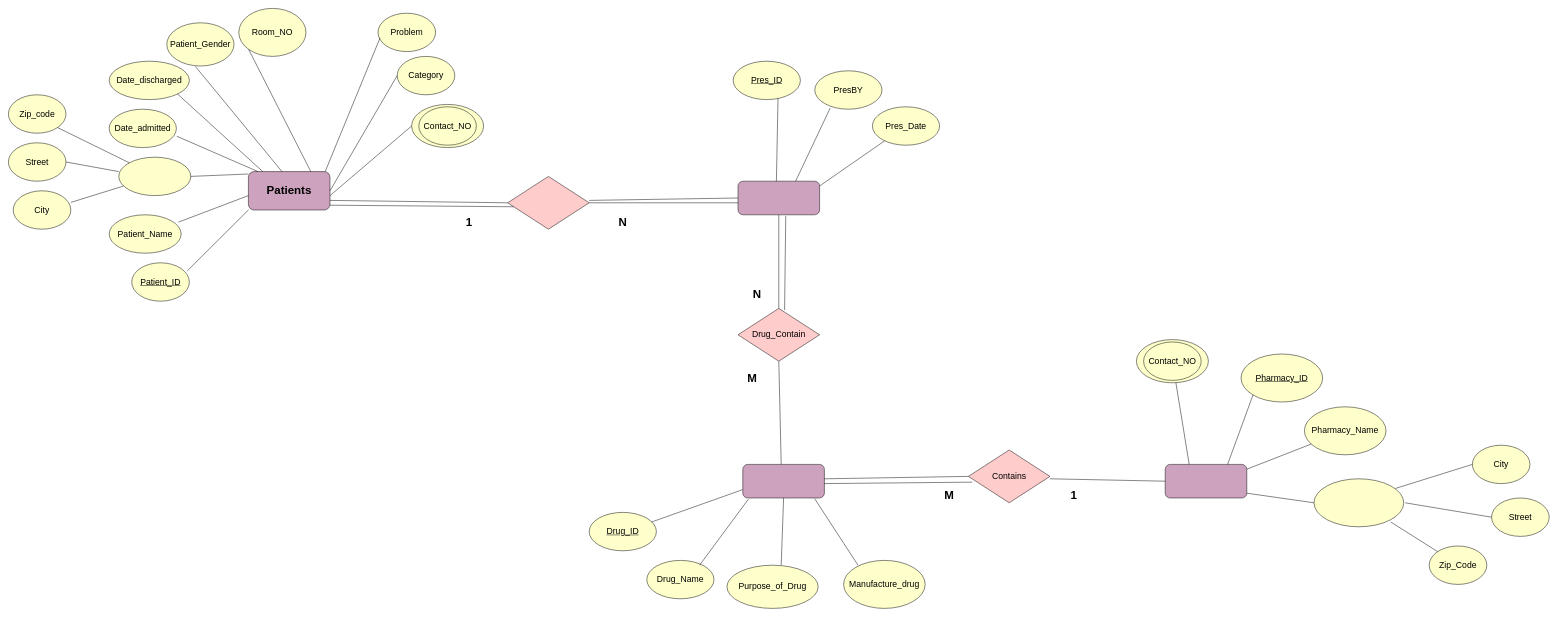
Some shapes in this 1558 by 617 pixel diagram are drawn without their labels. The centre of each missing label's shape, as x and y in pixels:
Drugs: pixel 783 481
Patient_Address: pixel 154 176
Pharmacy: pixel 1206 481
Pharmacy_Address: pixel 1359 502
Prescription: pixel 779 198
Process: pixel 548 202
